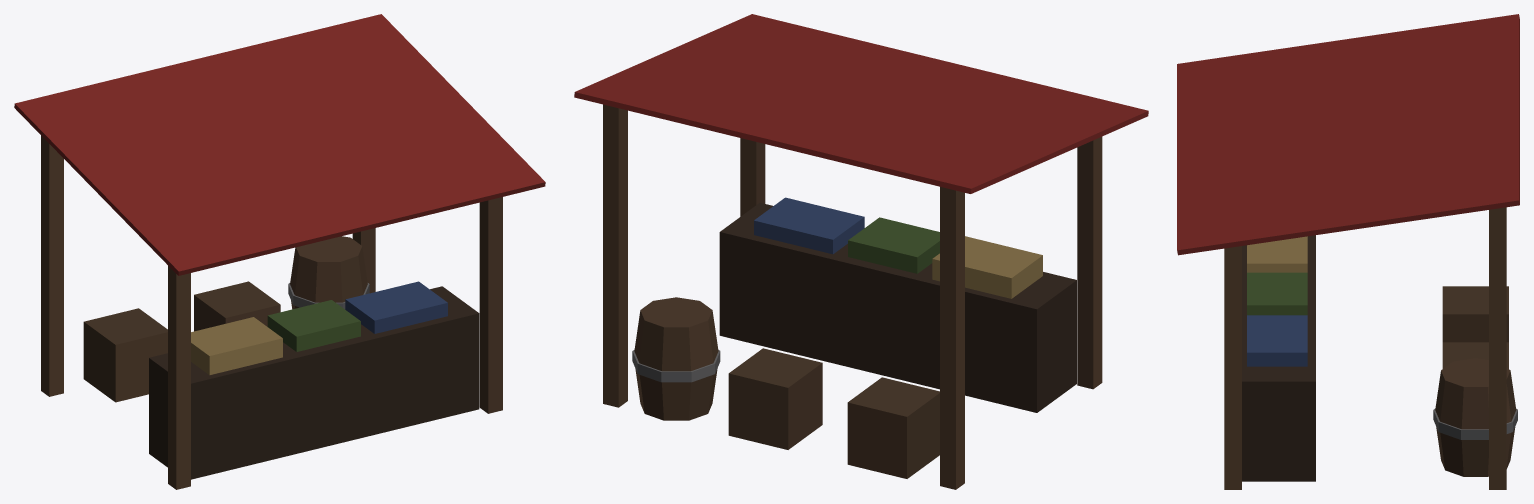
The model's file is walk_any_stall.glb.
3 renders of one model, left to right at view 1: azimuth 30°, elevation 25°; view 2: azimuth 150°, elevation 25°; view 3: azimuth 270°, elevation 25°, orthographic. The views are drawn at different scales.
Visible parts, largest first — view 1: walk_any_stall_roof, walk_any_stall; view 2: walk_any_stall, walk_any_stall_roof; view 3: walk_any_stall_roof, walk_any_stall.
Boxes of the visible parts, x1,y1,x2,y2 form: walk_any_stall_roof: [14, 14, 545, 275]; walk_any_stall: [41, 135, 502, 489]; walk_any_stall: [603, 104, 1102, 489]; walk_any_stall_roof: [574, 14, 1148, 193]; walk_any_stall_roof: [1177, 14, 1519, 255]; walk_any_stall: [1224, 207, 1517, 489].
Size of what is drawn, in the model's own units: 4 by 3 by 3.11.
2 materials, 2 textured.
